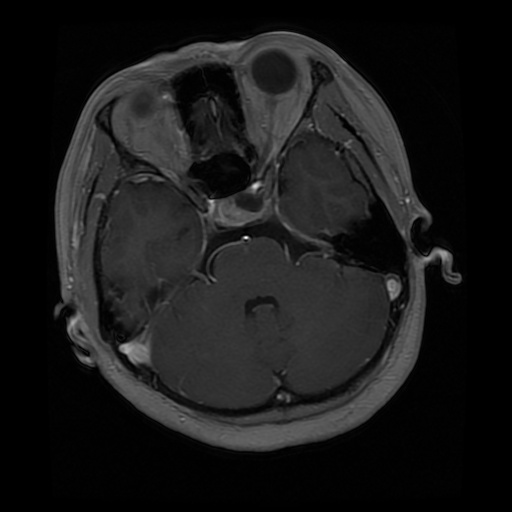pituitary: (210, 181, 271, 227)
